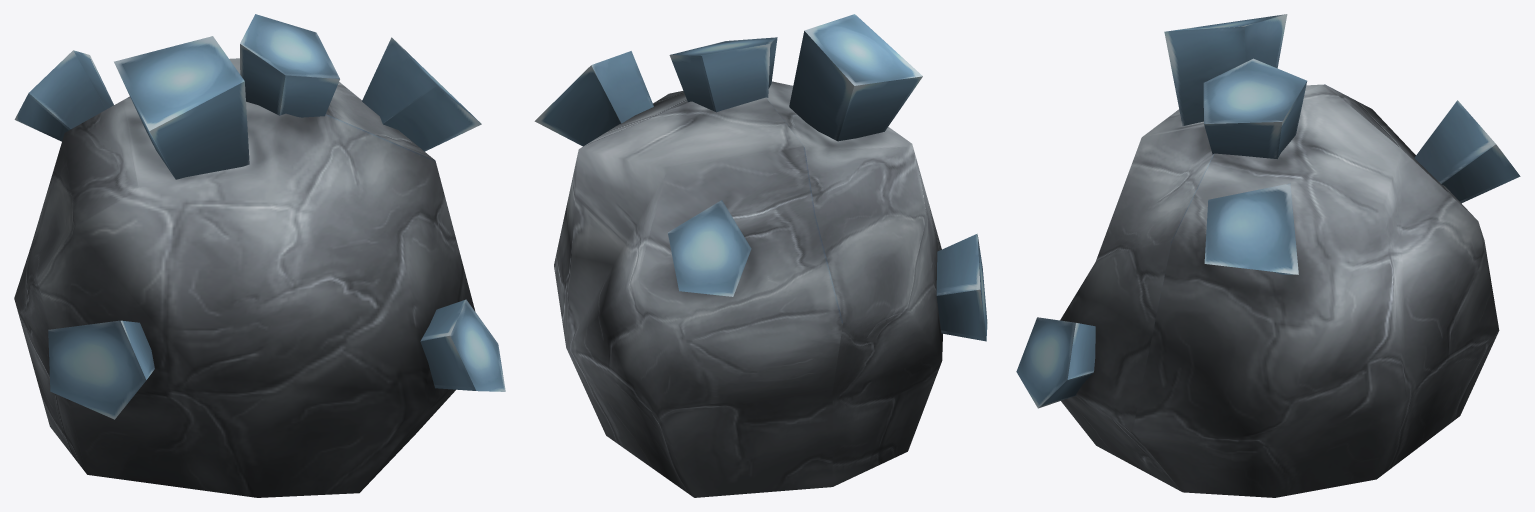
The model's file is ore_small_iron.fbx.
3 renders of one model, left to right at view 1: azimuth 30°, elevation 25°; view 2: azimuth 150°, elevation 25°; view 3: azimuth 270°, elevation 25°, orthographic. The views are drawn at different scales.
Visible parts, largest first — view 1: ore_small_iron:Mesh; view 2: ore_small_iron:Mesh; view 3: ore_small_iron:Mesh.
Part boxes in pixels (x1,y1,x2,y2): ore_small_iron:Mesh: (14,14,505,497); ore_small_iron:Mesh: (534,14,987,497); ore_small_iron:Mesh: (1016,14,1520,497).
Bounding box in the file's own units: 3.71 × 3.36 × 3.96.
